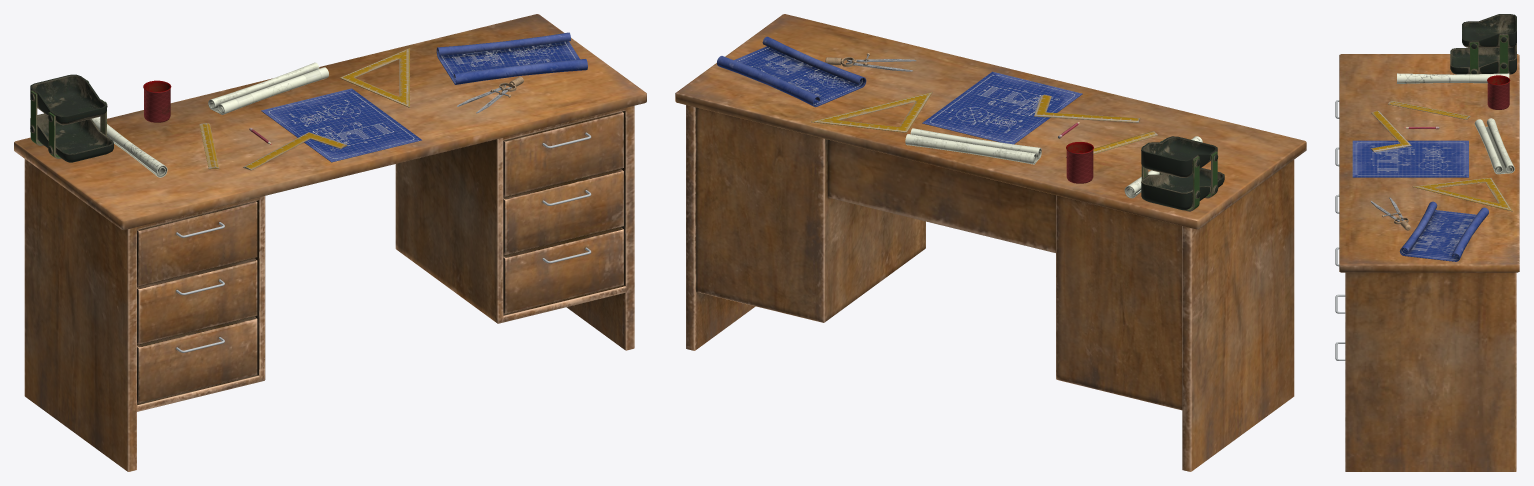
The model's file is science_research_table.glb.
3 renders of one model, left to right at view 1: azimuth 30°, elevation 25°; view 2: azimuth 150°, elevation 25°; view 3: azimuth 270°, elevation 25°, orthographic. The views are drawn at different scales.
Visible parts, largest first — view 1: Wooden_Science_Table, Blueprint_Paper_1, Plastic_Tray_1, Blueprint_Paper_3, Blueprint_Paper_2, Plastic_Ruler_3, Plastic_Cup_1, Blueprint_Paper_4, Plastic_Ruler_2; view 2: Wooden_Science_Table, Blueprint_Paper_1, Plastic_Tray_1, Blueprint_Paper_3, Blueprint_Paper_2, Plastic_Ruler_3, Plastic_Cup_1, Plastic_Ruler_2, Compass_1; view 3: Wooden_Science_Table, Blueprint_Paper_1, Plastic_Tray_1, Blueprint_Paper_3, Blueprint_Paper_2, Plastic_Ruler_3, Blueprint_Paper_4, Plastic_Cup_1, Plastic_Ruler_2, Plastic_Ruler_1, Compass_1.
Boxes of the visible parts, x1,y1,x2,y2 form: Wooden_Science_Table: (14, 14, 646, 471); Blueprint_Paper_1: (261, 88, 421, 162); Plastic_Tray_1: (30, 74, 113, 162); Blueprint_Paper_3: (436, 32, 587, 84); Blueprint_Paper_2: (208, 62, 328, 114); Plastic_Ruler_3: (340, 48, 409, 107); Plastic_Cup_1: (143, 80, 171, 122); Blueprint_Paper_4: (92, 117, 167, 177); Plastic_Ruler_2: (243, 132, 347, 170); Wooden_Science_Table: (675, 14, 1306, 471); Blueprint_Paper_1: (922, 71, 1082, 144); Plastic_Tray_1: (1141, 136, 1224, 211); Blueprint_Paper_3: (717, 36, 866, 107); Blueprint_Paper_2: (905, 128, 1041, 164); Plastic_Ruler_3: (811, 92, 932, 132); Plastic_Cup_1: (1066, 142, 1093, 183); Plastic_Ruler_2: (1034, 94, 1140, 122); Compass_1: (825, 53, 916, 71); Wooden_Science_Table: (1335, 54, 1519, 471); Blueprint_Paper_1: (1352, 140, 1468, 177); Plastic_Tray_1: (1450, 14, 1516, 74); Blueprint_Paper_3: (1399, 201, 1488, 261); Blueprint_Paper_2: (1474, 118, 1514, 174); Plastic_Ruler_3: (1412, 177, 1512, 211); Blueprint_Paper_4: (1397, 73, 1509, 83); Plastic_Cup_1: (1487, 75, 1510, 109); Plastic_Ruler_2: (1370, 111, 1411, 152); Plastic_Ruler_1: (1388, 100, 1470, 119); Compass_1: (1370, 197, 1410, 230).
Size of the model in its own units: 1.72 by 0.9698 by 0.6335.
1 material, 1 textured.
